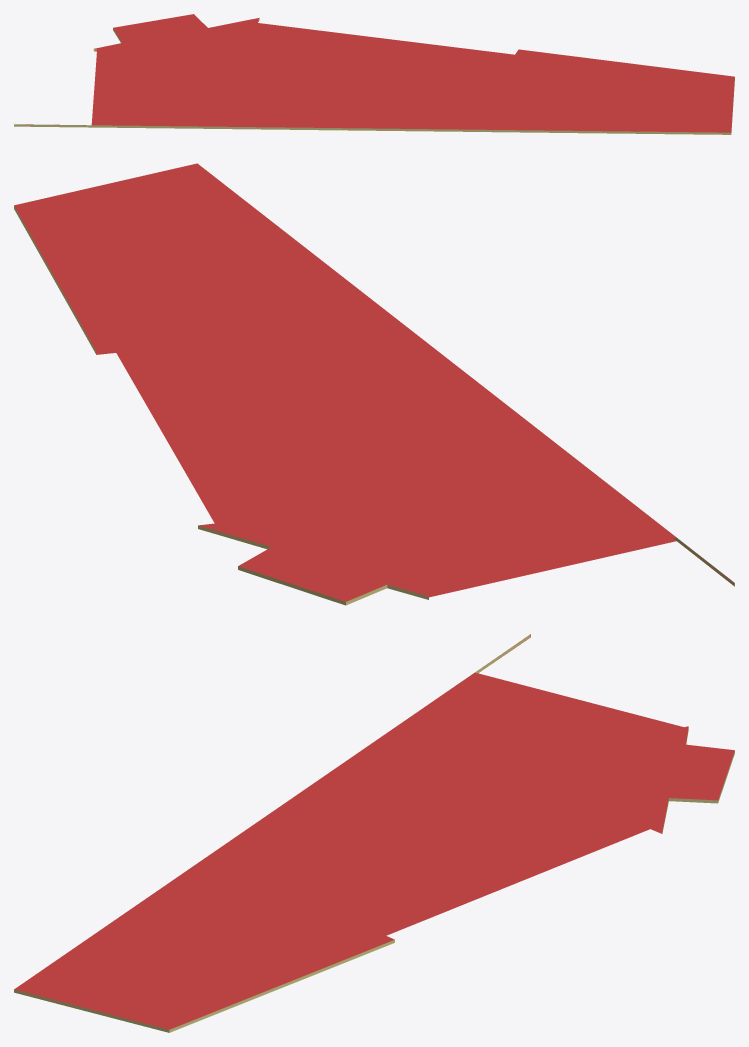
3 views of the same model, one above another, from view 1: azimuth 30°, elevation 25°; view 2: azimuth 150°, elevation 25°; view 3: azimuth 270°, elevation 25° (orthographic). The views are drawn at different scales.
Parts seen in each view (by area): view 1: group_3, group_4; view 2: group_3, group_4, group_5; view 3: group_3, group_4, group_5.
Boxes of the visible parts, x1,y1,x2,y2 form: group_3: (26,14,734,132); group_4: (14,18,734,134); group_3: (14,163,734,601); group_4: (14,206,734,605); group_5: (96,349,734,597); group_3: (14,634,734,1029); group_4: (14,634,734,1032); group_5: (383,637,662,935).
Size of the model in its own units: 27.11 by 20.87 by 0.1.
